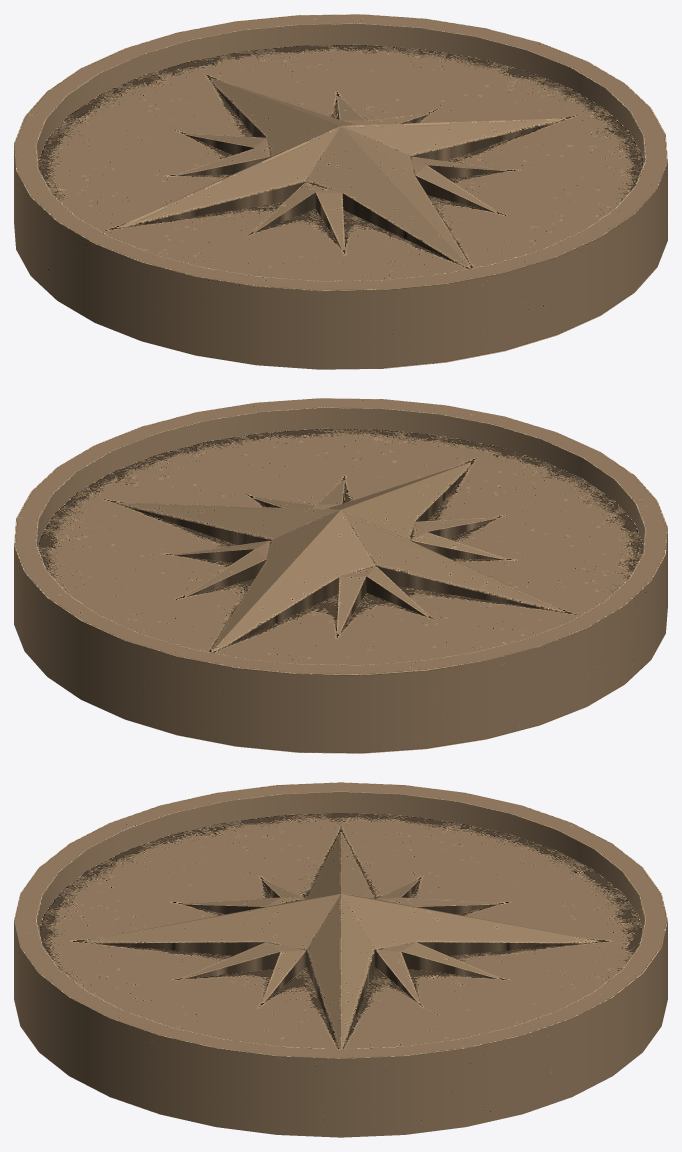
The model's file is coinBaseGold.fbx.
3 views of the same model, one above another, from view 1: azimuth 30°, elevation 25°; view 2: azimuth 150°, elevation 25°; view 3: azimuth 270°, elevation 25° (orthographic).
Visible parts, largest first — view 1: coinBase; view 2: coinBase; view 3: coinBase.
Boxes of the visible parts, bbox=[...] form: coinBase: bbox=[14, 14, 667, 369]; coinBase: bbox=[14, 398, 667, 753]; coinBase: bbox=[14, 782, 667, 1137].
Size of the model in its own units: 50.66 by 11.39 by 50.66.
